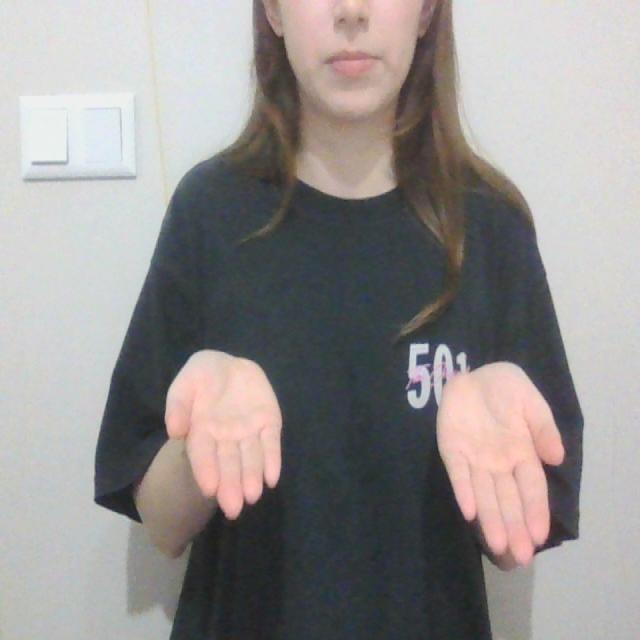Evet: (160, 343, 567, 576)
